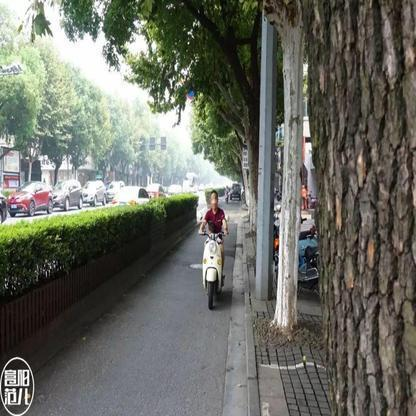target: (198, 189, 231, 309)
